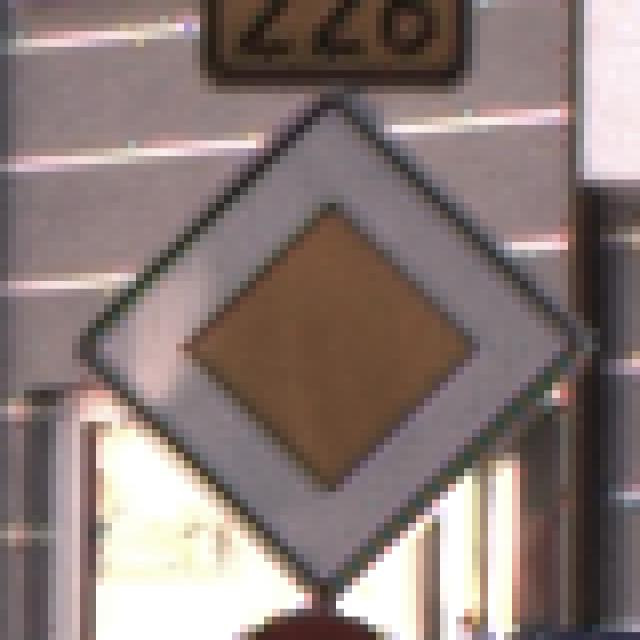Main Road: (57, 64, 585, 587)
